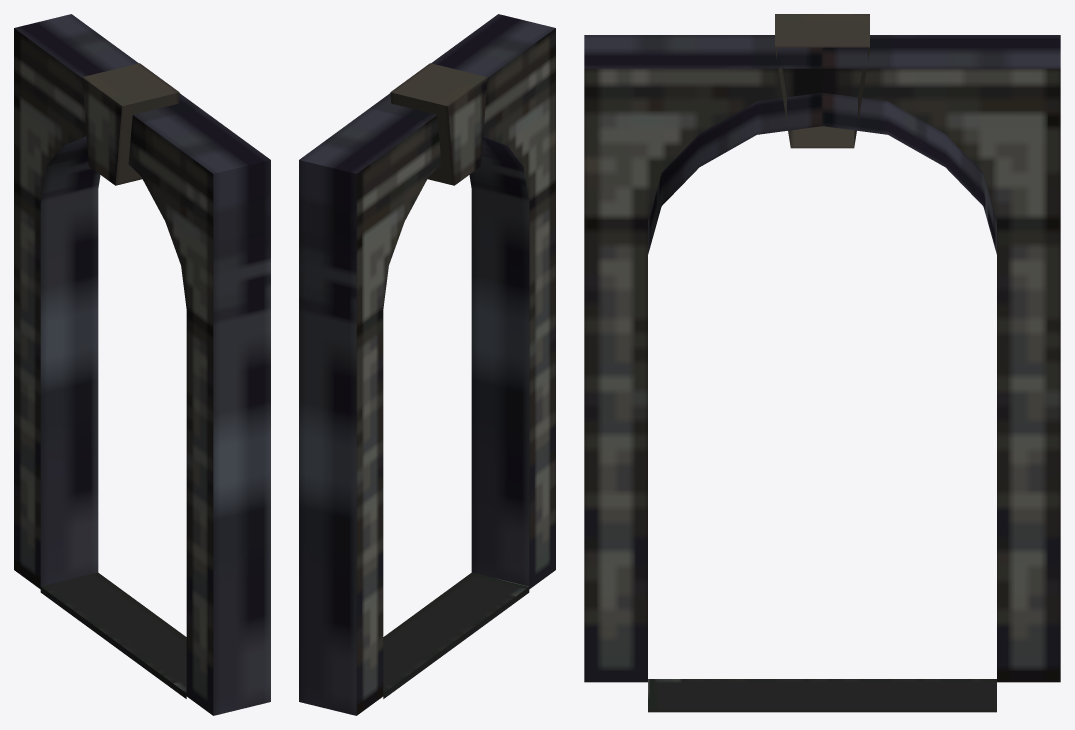
Rendered from EnvBdgMD_SnowHouse_A_Outdoor_Entrance_A.FBX.
3 views of the same model, side by side, from view 1: azimuth 30°, elevation 25°; view 2: azimuth 150°, elevation 25°; view 3: azimuth 270°, elevation 25° (orthographic). The views are drawn at different scales.
Parts seen in each view (by area): view 1: EnvBdgMD_SnowHouse_A_Outdoor_Entrance_A; view 2: EnvBdgMD_SnowHouse_A_Outdoor_Entrance_A; view 3: EnvBdgMD_SnowHouse_A_Outdoor_Entrance_A.
Part boxes in pixels (<box>): EnvBdgMD_SnowHouse_A_Outdoor_Entrance_A: <box>14,14,270,715</box>; EnvBdgMD_SnowHouse_A_Outdoor_Entrance_A: <box>299,14,555,715</box>; EnvBdgMD_SnowHouse_A_Outdoor_Entrance_A: <box>584,14,1060,712</box>.
Bounding box in the file's own units: 30 × 231 × 150.
Materials: 1 (1 with a texture image).
